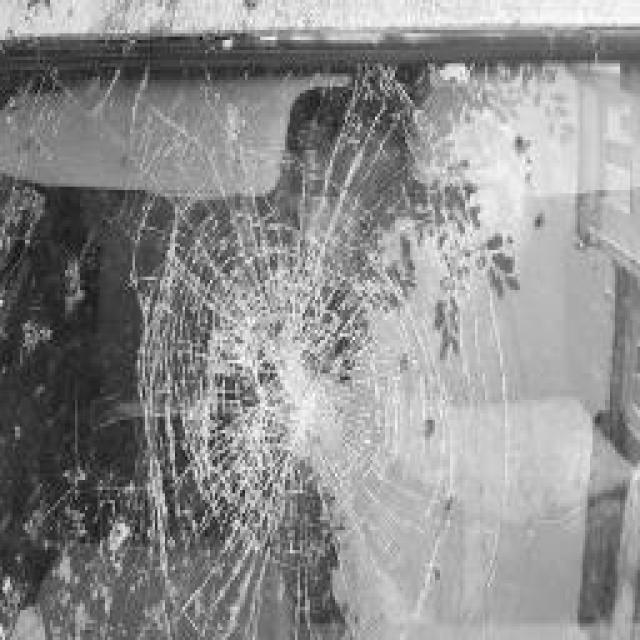Windshield: (2, 60, 635, 623)
